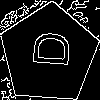D: (23, 29, 71, 69)
